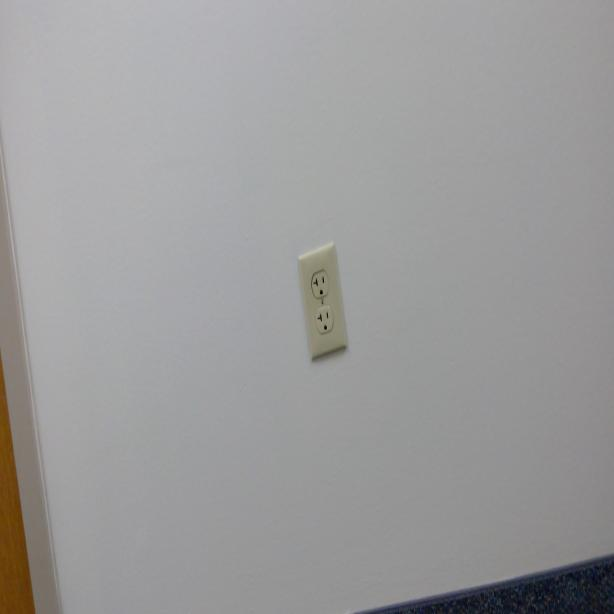typeb: (316, 308, 333, 336), (313, 274, 328, 298)
